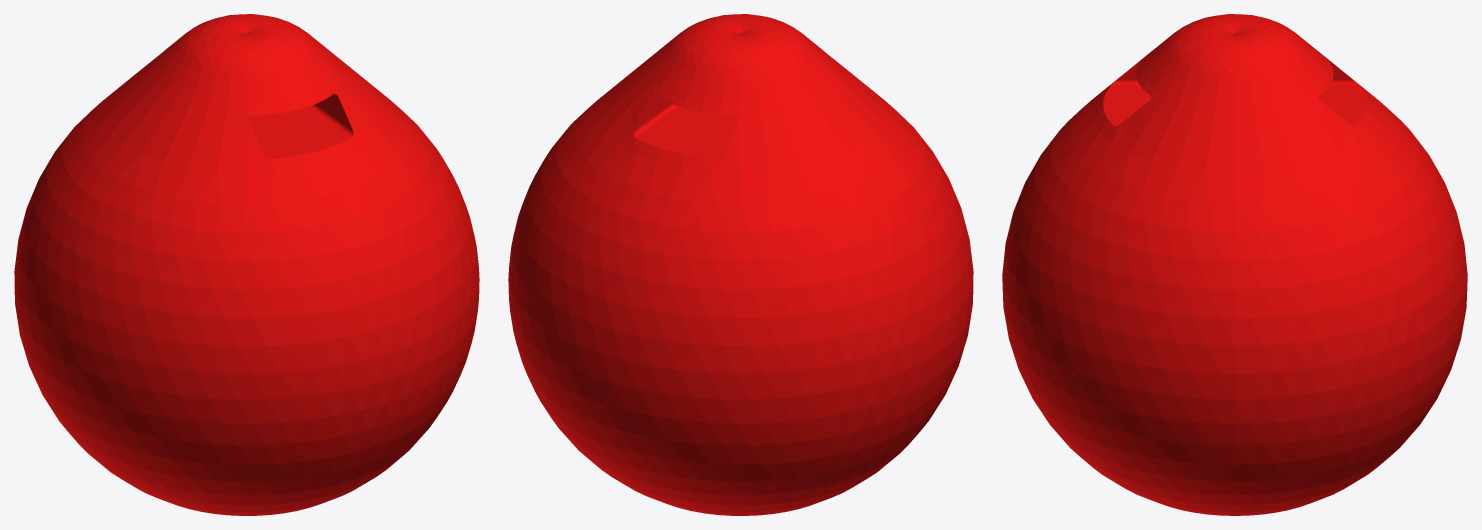
Rendered from red_ball.obj.
3 renders of one model, left to right at view 1: azimuth 30°, elevation 25°; view 2: azimuth 150°, elevation 25°; view 3: azimuth 270°, elevation 25°, orthographic.
Parts seen in each view (by area): view 1: ball_buoy; view 2: ball_buoy; view 3: ball_buoy.
Boxes of the visible parts, left/top/right/bottom form: ball_buoy: left=14, top=14, right=479, bottom=515; ball_buoy: left=508, top=14, right=973, bottom=515; ball_buoy: left=1002, top=14, right=1467, bottom=515.
Size of the model in its own units: 11.76 by 12.98 by 11.77.
